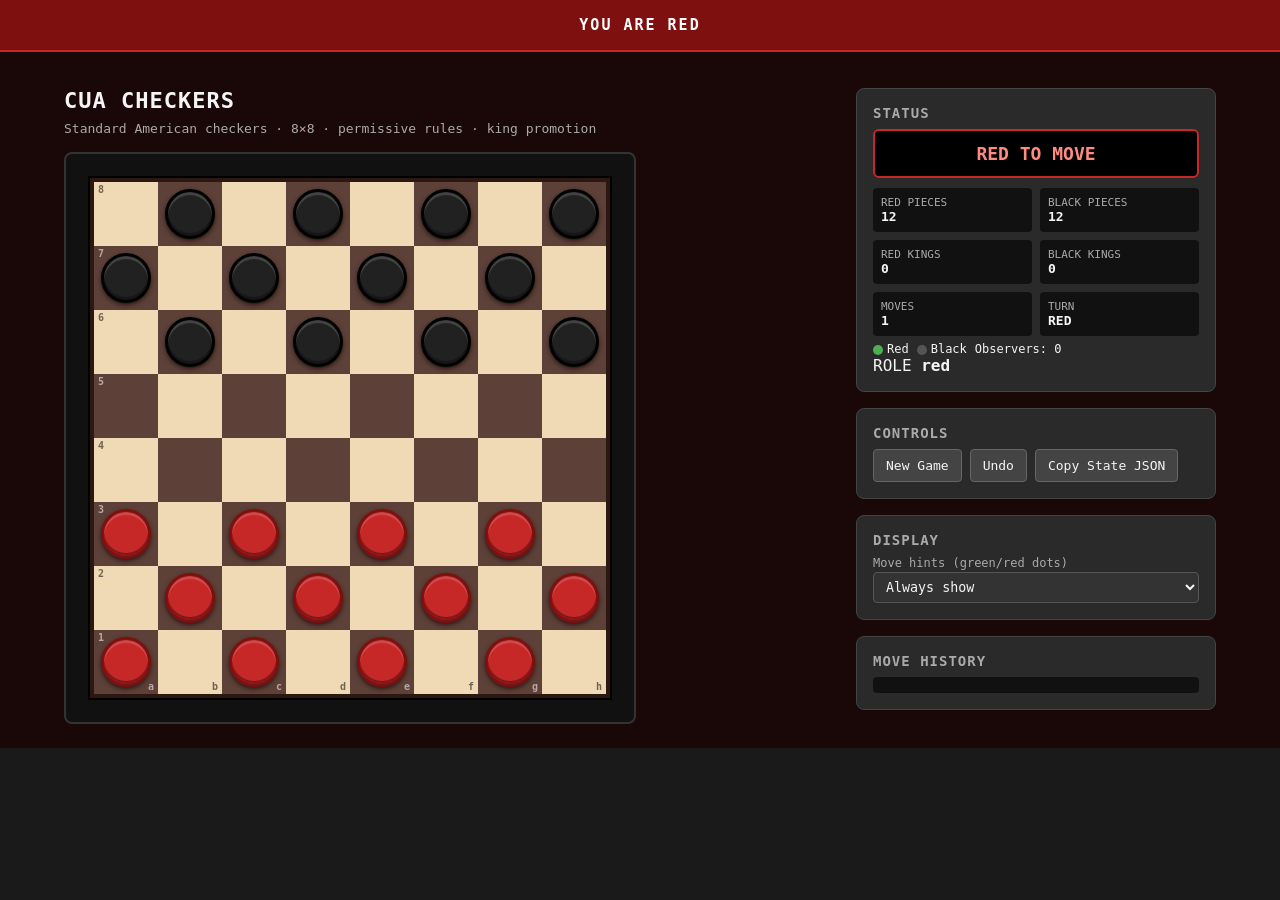
Hint toggle › shows hint-n input only when First N is selected
Select "First N moves only" in the dropdown with id "hint-mode" at (1036, 588), box [873,572,1199,603]
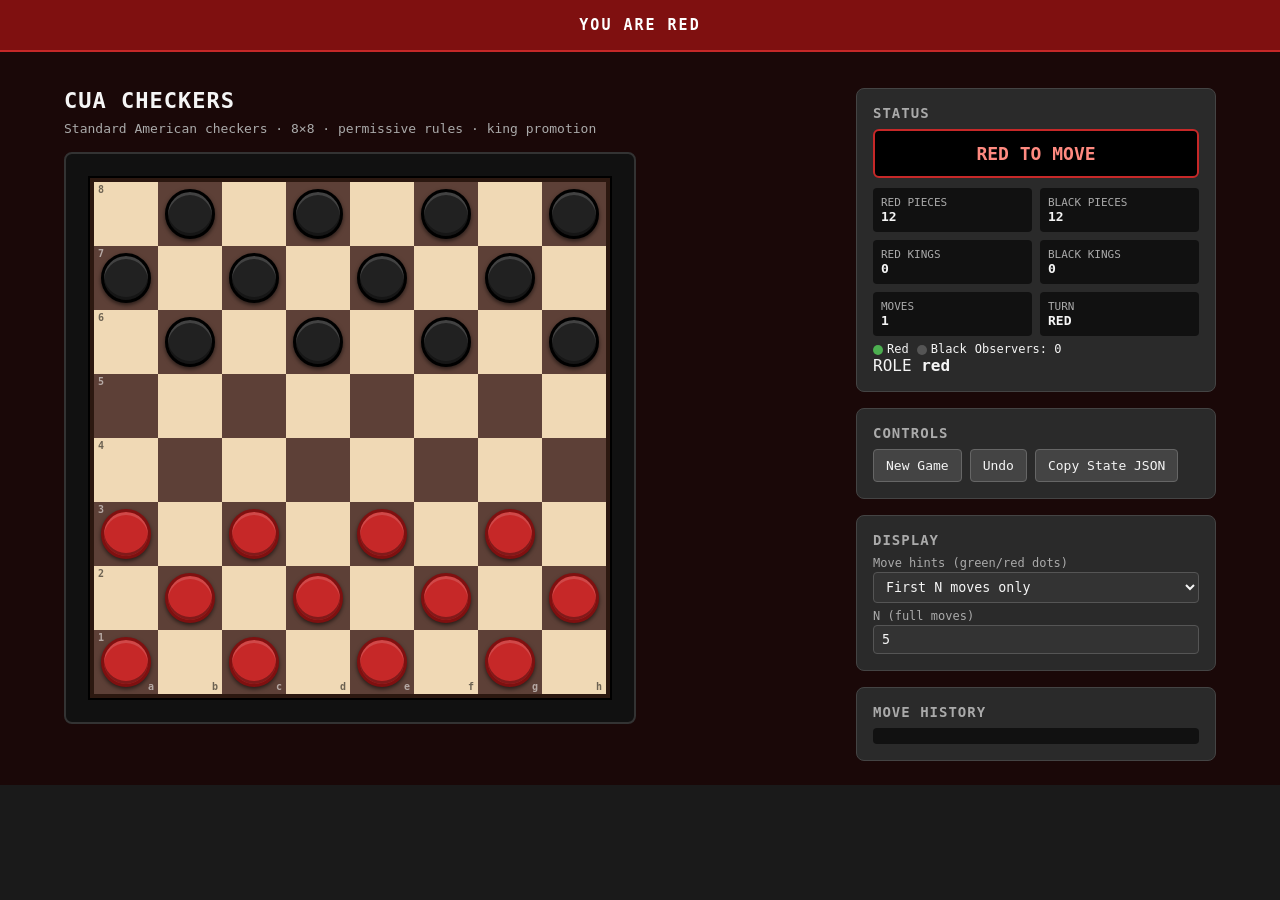
Now the element with id "hint-n-wrap" is shown, box [873,609,1199,654]
Select "Always show" in the dropdown with id "hint-mode" at (1036, 588), box [873,572,1199,603]
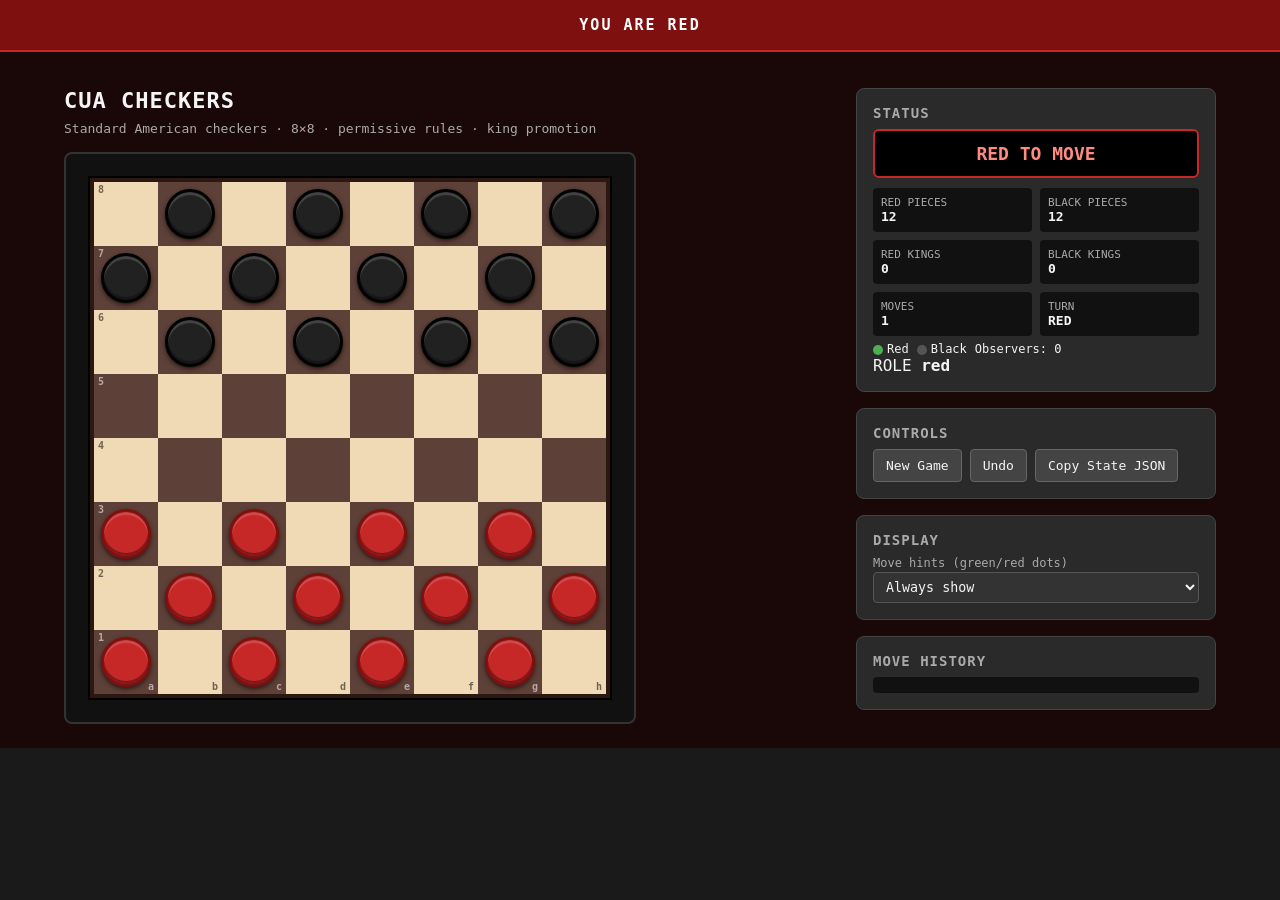
Now the element with id "hint-n-wrap" is gone
